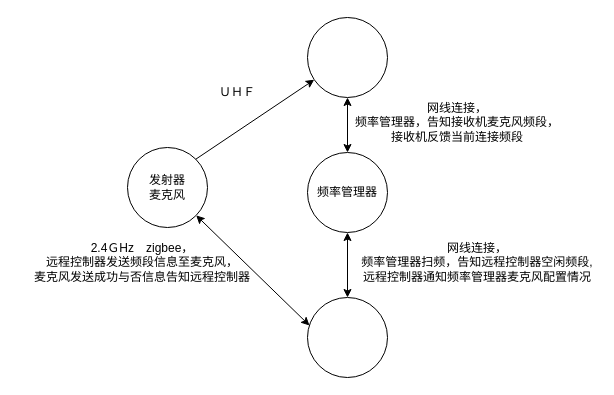
Some shapes in this 614 by 395 pixel diagram are drawn without their labels. The centre of each missing label's shape, as x and y in pixels:
"showlink协议 远程控制器" goes at (x=347, y=337).
"接收机" goes at (x=347, y=57).
